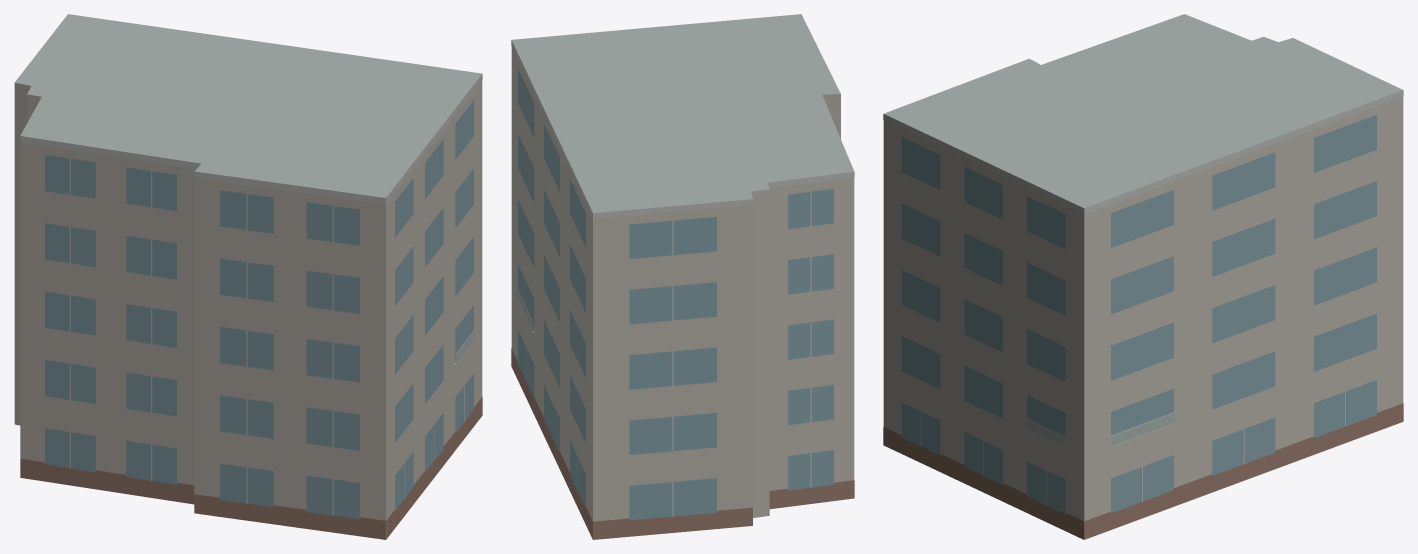
File: survey-upis-32774953.glb
3 views of the same model, side by side, from view 1: azimuth 30°, elevation 25°; view 2: azimuth 150°, elevation 25°; view 3: azimuth 270°, elevation 25° (orthographic). The views are drawn at different scales.
Parts seen in each view (by area): view 1: survey-upis-32774953.tmp; view 2: survey-upis-32774953.tmp; view 3: survey-upis-32774953.tmp.
Boxes of the visible parts, x1,y1,x2,y2 form: survey-upis-32774953.tmp: (14, 14, 482, 539); survey-upis-32774953.tmp: (511, 14, 854, 539); survey-upis-32774953.tmp: (883, 14, 1403, 539).
Size of the model in its own units: 16.66 by 13.25 by 18.84.
